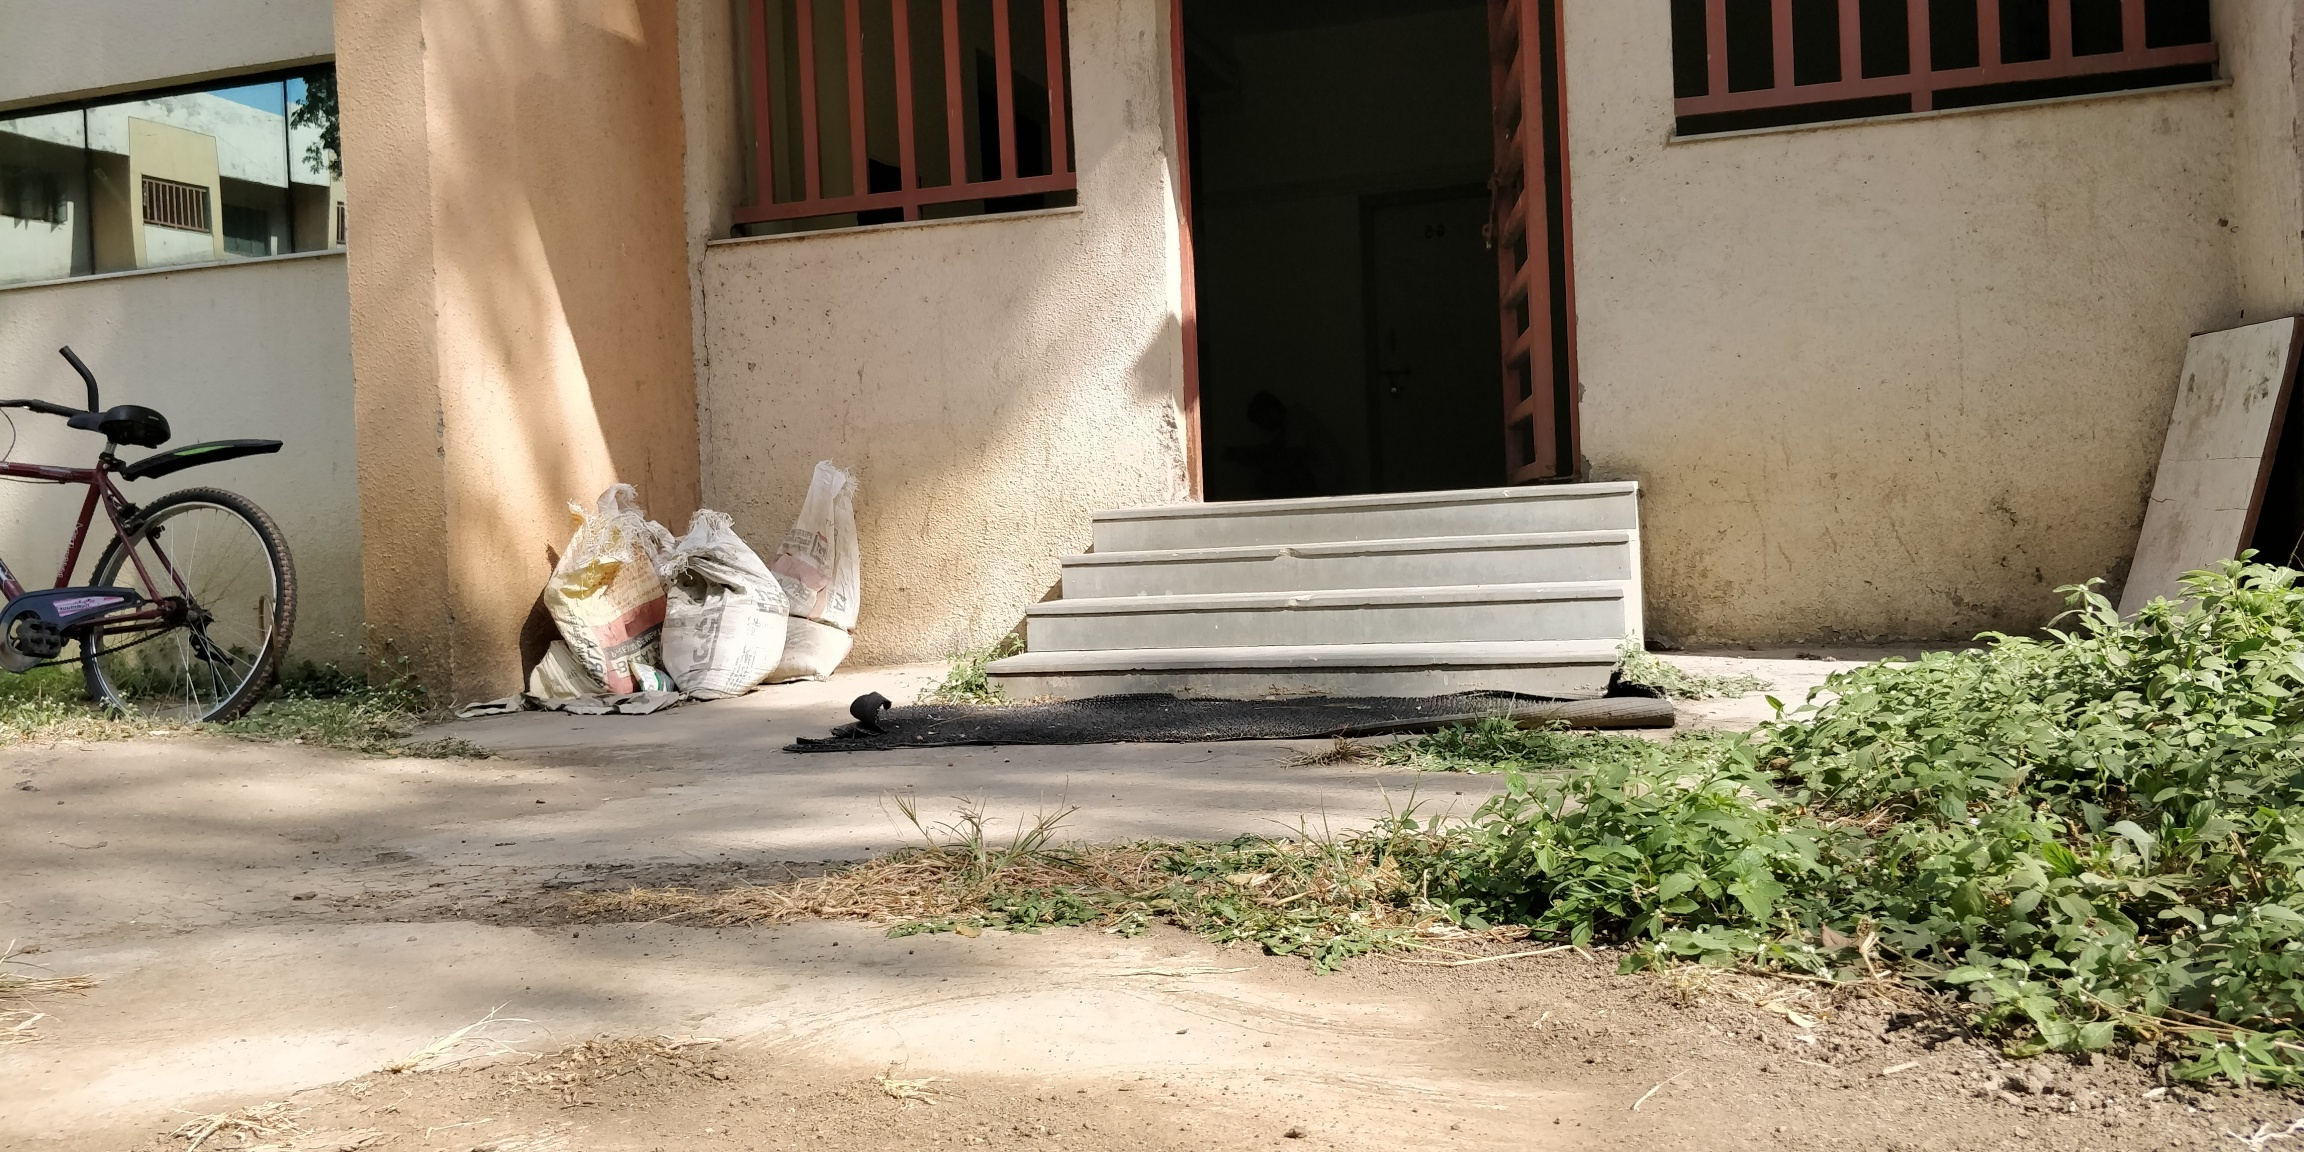stairs_up: (964, 472, 1657, 721)
